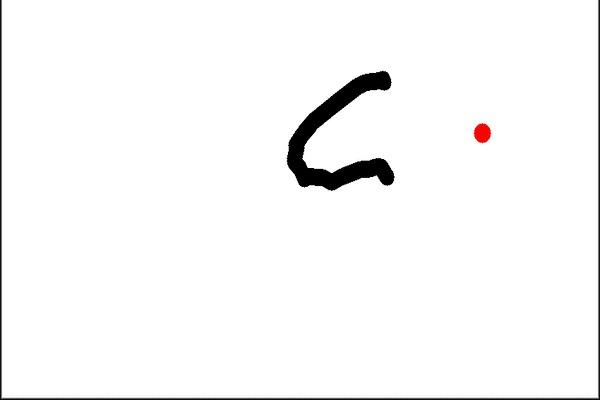C: (284, 68, 398, 191)
